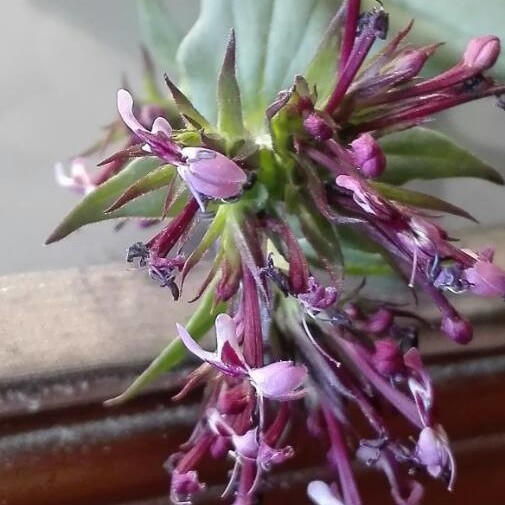obstacle: (120, 51, 452, 490)
